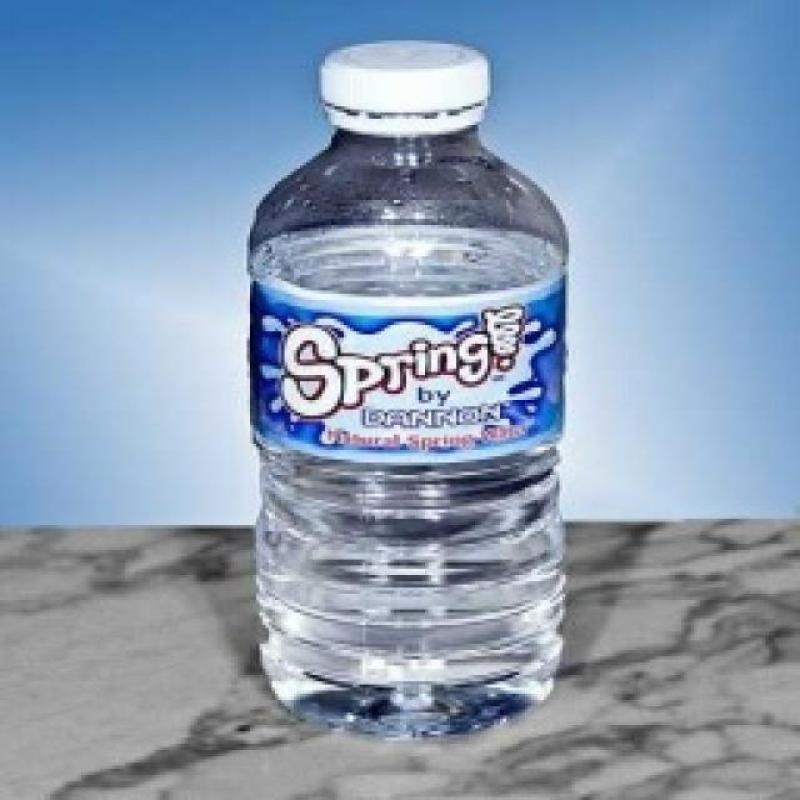botella: (238, 36, 572, 736)
